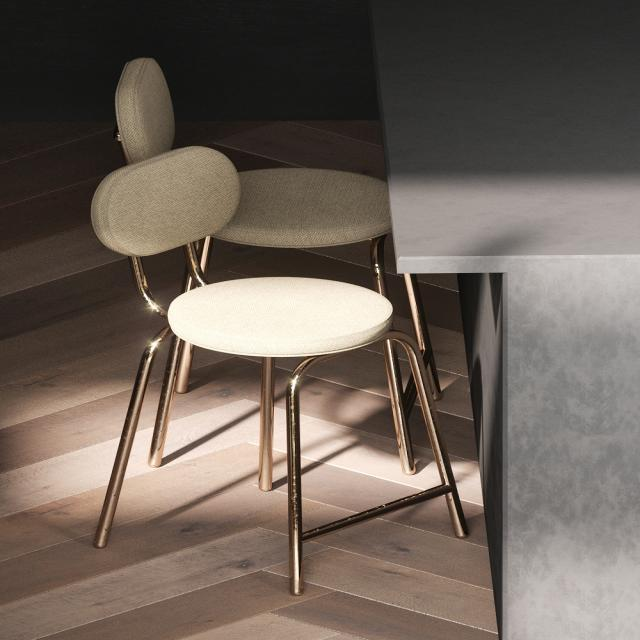chair: (85, 141, 470, 597), (110, 54, 450, 402)
